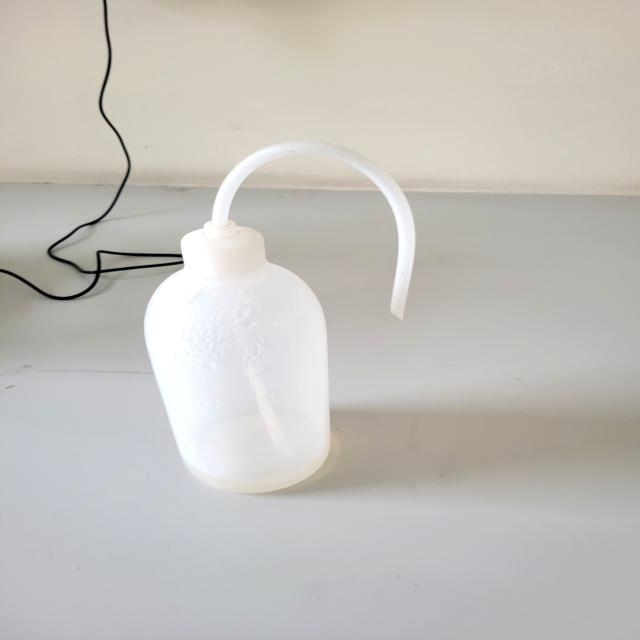Wash_Bottle: (128, 126, 427, 514)
